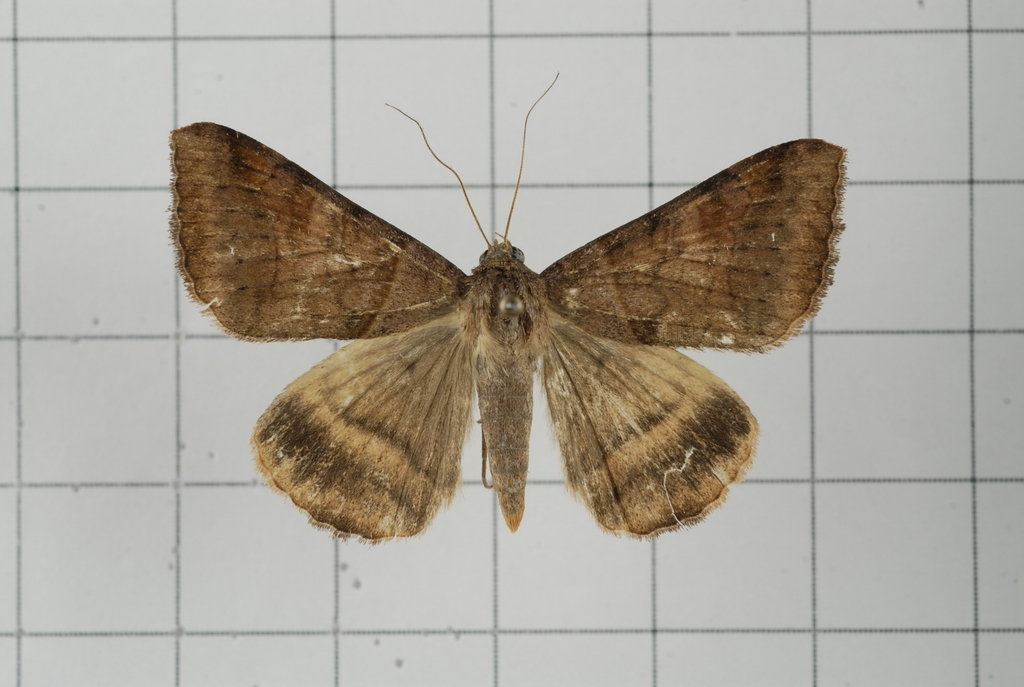Butterfly: (149, 86, 859, 548)
